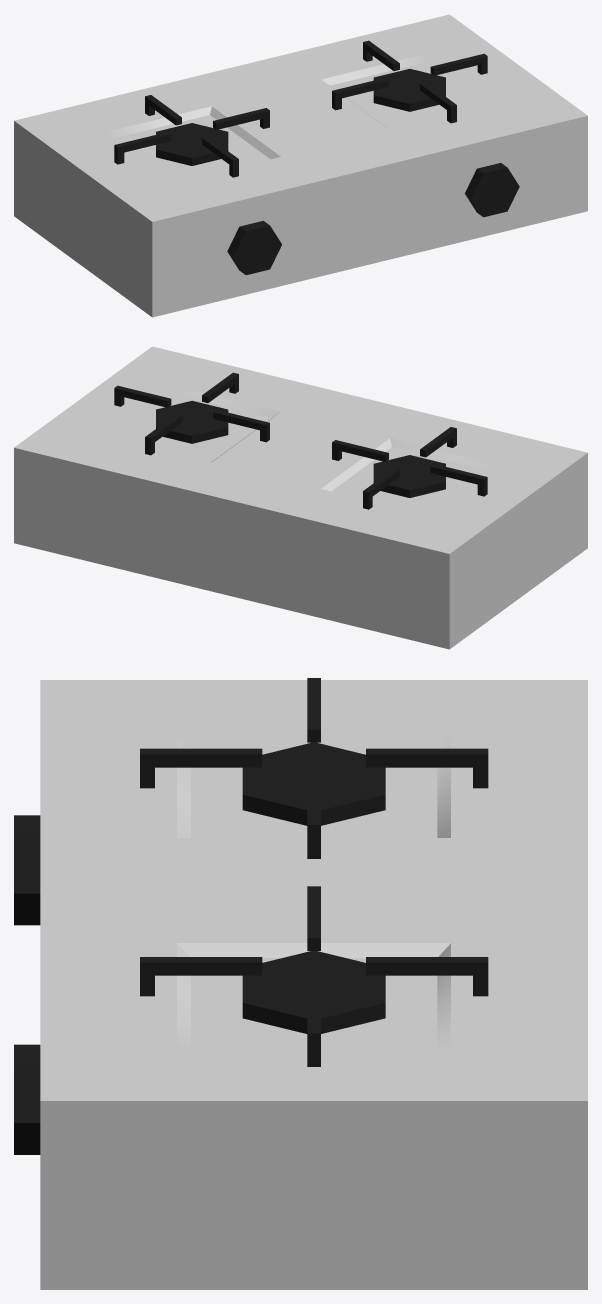
File: stove1_PLY.fbx
The picture shows the model from 3 angles, top to bottom: view 1: azimuth 30°, elevation 25°; view 2: azimuth 150°, elevation 25°; view 3: azimuth 270°, elevation 25°; orthographic projection. The views are drawn at different scales.
Visible parts, largest first — view 1: stove1_PLY; view 2: stove1_PLY; view 3: stove1_PLY.
Part boxes in pixels (x1=…): stove1_PLY: x1=14, y1=14, x2=587, y2=317; stove1_PLY: x1=14, y1=346, x2=587, y2=649; stove1_PLY: x1=14, y1=678, x2=587, y2=1289.
Size of the model in its own units: 3.59 by 0.8956 by 2.07.
